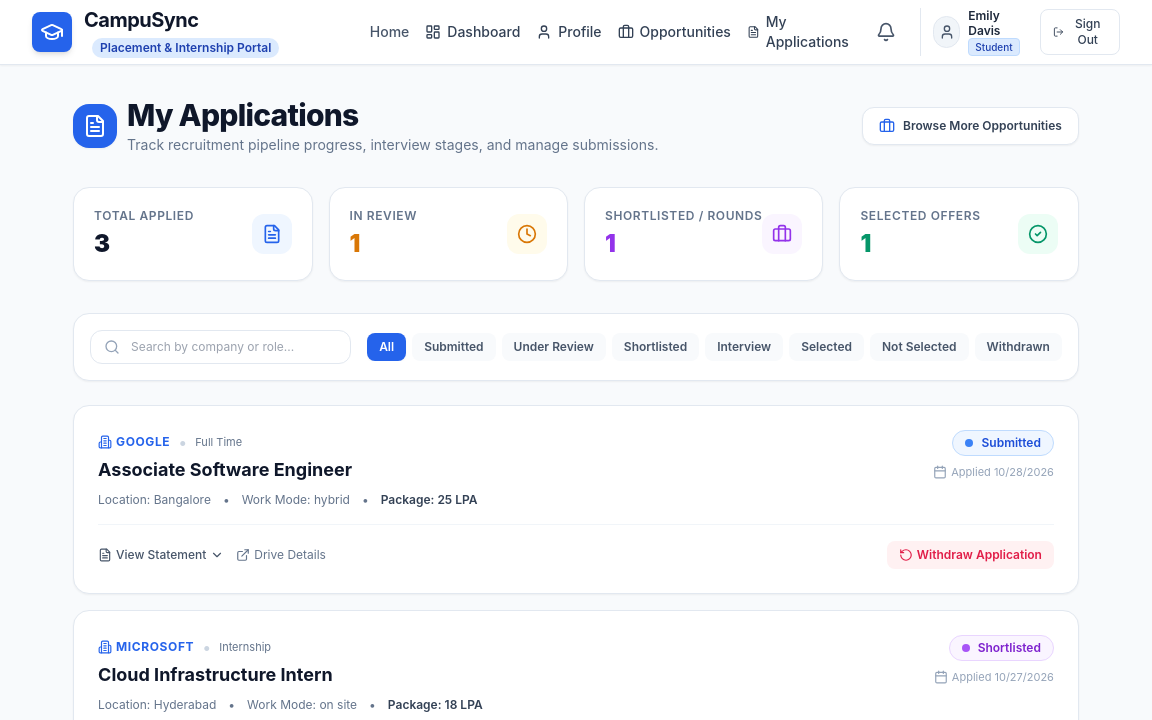
Student Applications & Tracking Flow (/applications) › filters applications by search query and status tabs
Expected: the text "Google" is shown, [98,434,170,450]
Note: Search for Microsoft
Type "Microsoft" into the field with test id "search-applications-input".
click(221, 347); type("Microsoft")  # box [90,330,351,364]
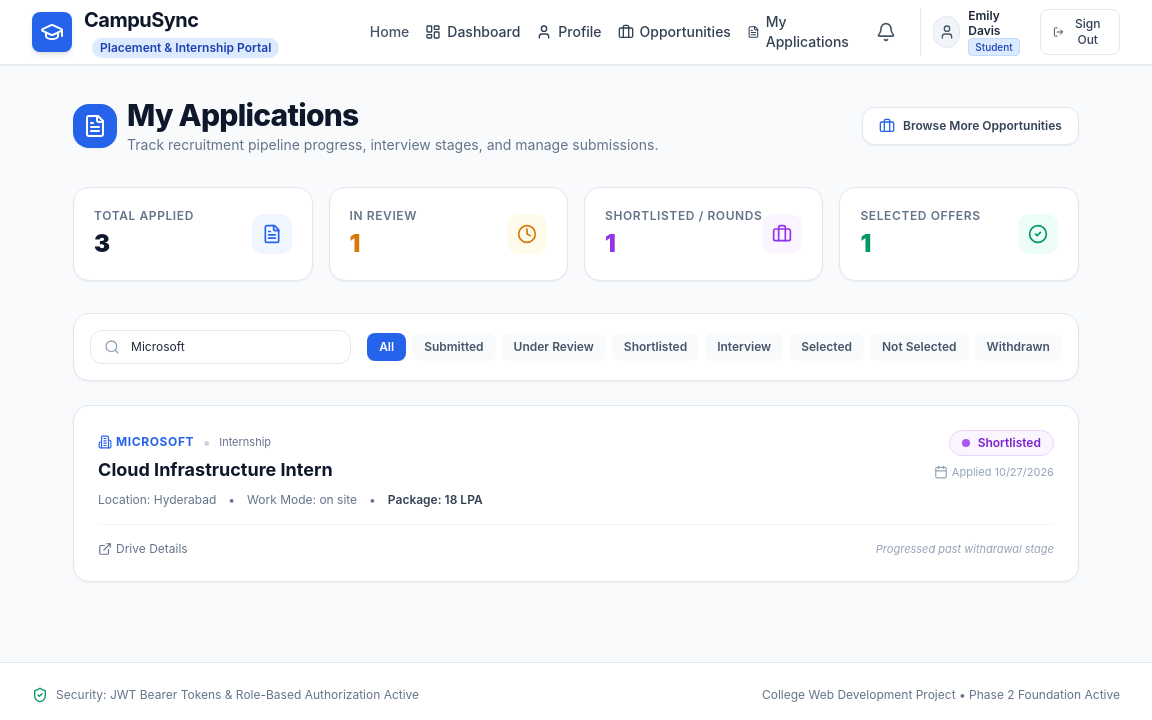
Expected: the text "Microsoft" is shown, [98,434,194,450]
Now the text "Google" is gone
Note: Clear search
Clear the field with test id "search-applications-input" at (221, 347), box [90,330,351,364]
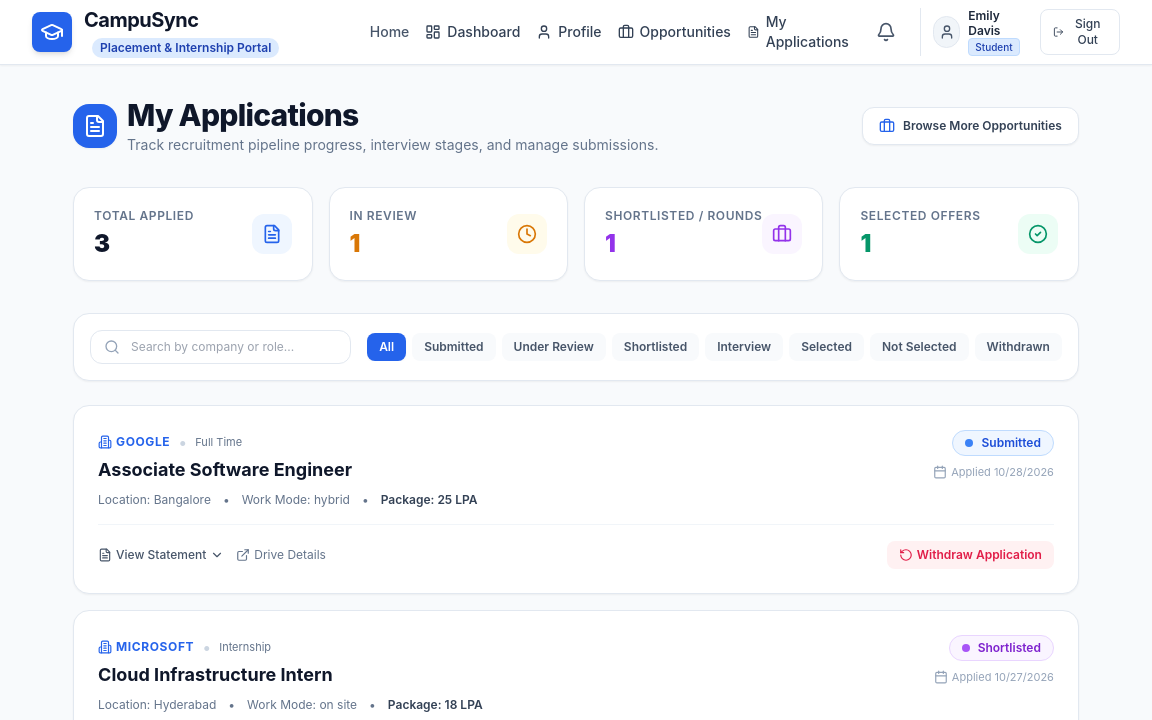
Note: Filter by Selected status
Click the button with test id "filter-status-selected".
click(826, 347)  # box [789,333,864,361]
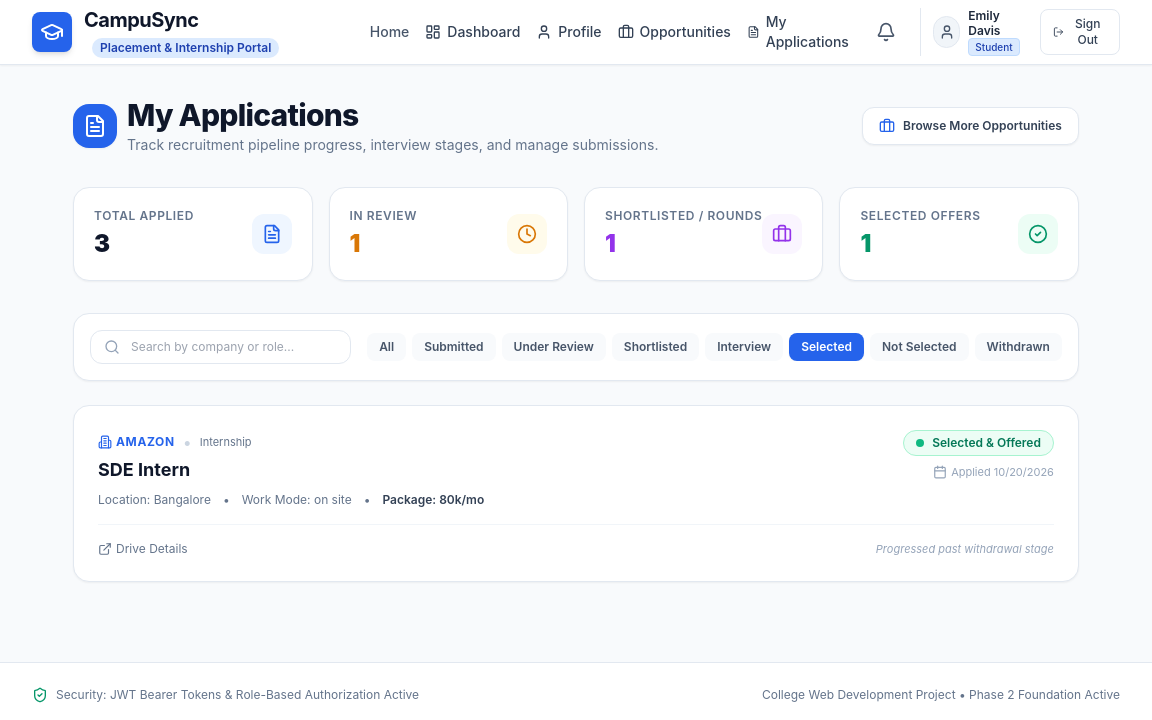
Now the text "Amazon" is shown, box [98,434,175,450]
Now the text "Google" is gone
Now the text "Microsoft" is gone
